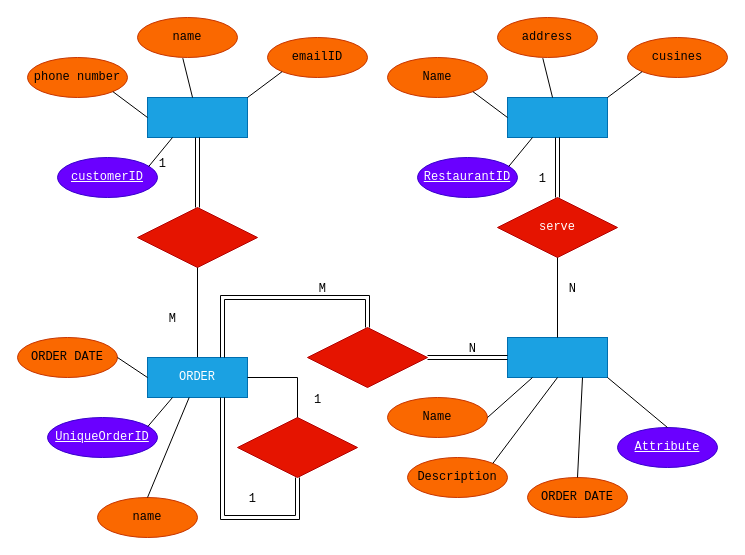
This 745x555 diagram has some shape labels left out. Each missing label, with the centre of its shape:
count of order: (367,357)
CUSTOMER: (197,117)
Delivery: (297,447)
ITEM: (557,357)
placing order: (197,237)
Restaurant: (557,117)
